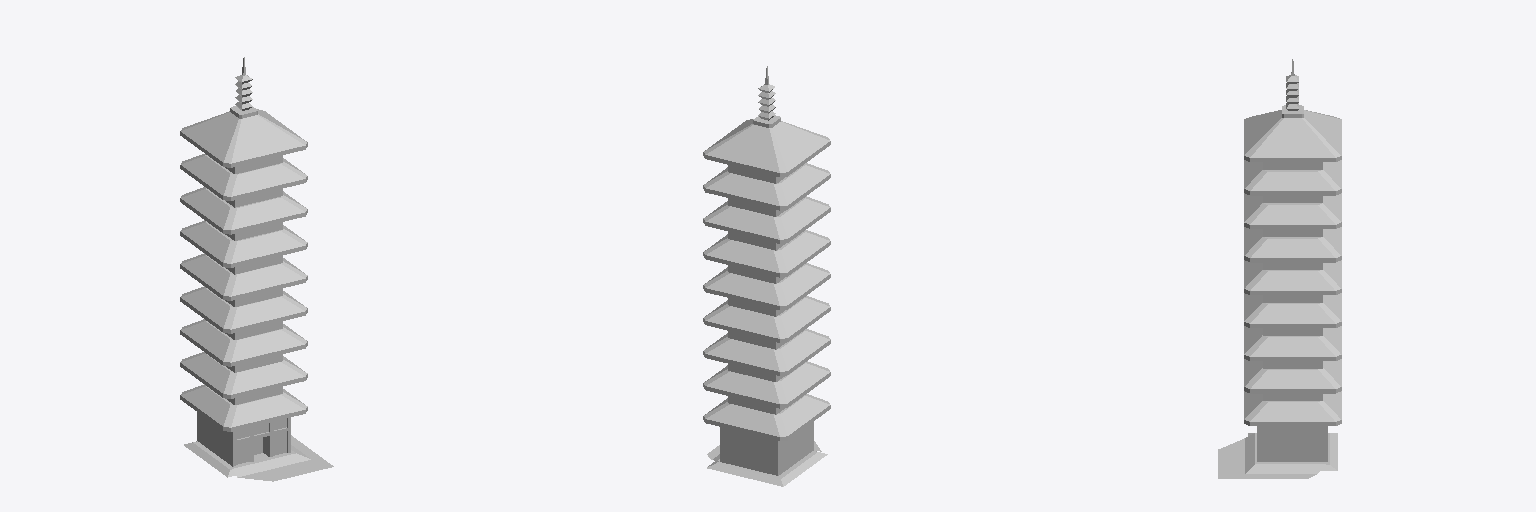
The model's file is Bell Tower.obj.
3 views of the same model, side by side, from view 1: azimuth 30°, elevation 25°; view 2: azimuth 150°, elevation 25°; view 3: azimuth 270°, elevation 25° (orthographic).
Visible parts, largest first — view 1: polygon3, polygon4, polygon0, polygon1, polygon2; view 2: polygon3, polygon4, polygon1, polygon2; view 3: polygon3, polygon4, polygon0.
Boxes of the visible parts, x1,y1,x2,y2 form: polygon3: [180, 109, 307, 431]; polygon4: [197, 106, 290, 466]; polygon0: [197, 435, 333, 481]; polygon1: [184, 441, 235, 477]; polygon2: [235, 57, 252, 110]; polygon3: [703, 119, 830, 440]; polygon4: [720, 115, 813, 475]; polygon1: [707, 451, 827, 486]; polygon2: [758, 66, 775, 120]; polygon3: [1244, 110, 1341, 425]; polygon4: [1257, 105, 1327, 461]; polygon0: [1218, 433, 1326, 478].
Bounding box in the file's own units: 118 × 472 × 132.